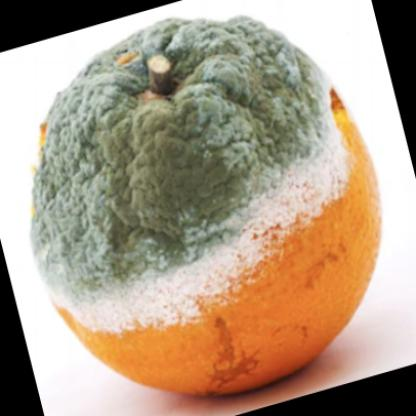rotten_orange: (26, 10, 396, 399)
